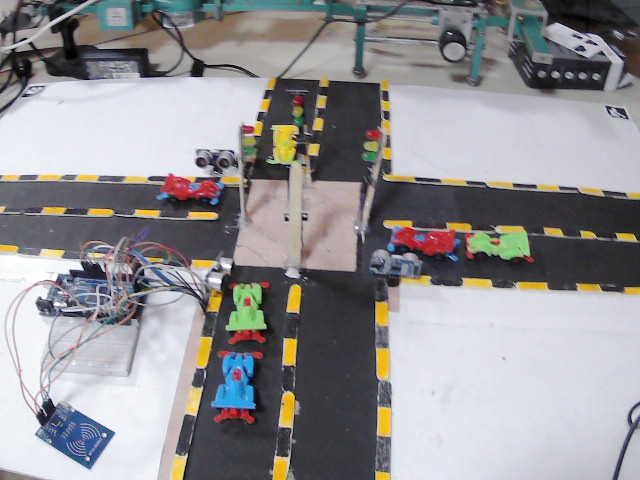aruco_marker: (603, 103, 636, 122), (21, 82, 43, 99)
black_strip: (176, 415, 196, 452), (273, 425, 292, 456), (201, 311, 220, 335), (284, 312, 300, 338), (166, 258, 195, 272), (545, 277, 576, 290), (281, 369, 297, 393), (377, 437, 390, 466), (377, 384, 392, 409), (5, 207, 41, 217), (599, 281, 624, 295), (413, 217, 444, 228), (373, 278, 388, 300), (106, 256, 142, 265), (158, 208, 187, 219), (374, 328, 391, 346), (433, 275, 462, 285), (63, 250, 87, 261), (66, 206, 90, 217), (605, 186, 626, 198), (191, 369, 206, 385), (196, 175, 220, 185), (100, 175, 124, 184), (491, 279, 516, 287), (524, 223, 543, 233), (377, 134, 390, 148), (308, 132, 322, 145), (560, 186, 578, 196), (417, 175, 439, 183), (252, 140, 262, 157), (20, 245, 40, 253), (114, 207, 133, 215), (148, 175, 169, 182), (468, 223, 492, 229), (257, 109, 269, 121), (308, 156, 317, 171), (467, 180, 486, 187), (564, 229, 580, 237), (514, 180, 535, 186), (315, 88, 329, 97), (380, 91, 390, 103), (312, 110, 324, 120), (599, 231, 613, 239), (265, 87, 273, 100), (380, 109, 389, 119), (62, 175, 75, 181), (384, 161, 390, 173), (20, 175, 38, 179), (317, 87, 330, 91), (634, 234, 639, 242)
car: (210, 349, 262, 426), (227, 281, 272, 344), (389, 225, 464, 261), (466, 229, 537, 264), (158, 173, 227, 207), (270, 123, 300, 163)
mixed_lane: (168, 291, 224, 479), (381, 171, 640, 202), (384, 215, 640, 244), (271, 283, 303, 479), (405, 270, 640, 296), (1, 242, 216, 270), (369, 273, 392, 477), (1, 204, 219, 223), (0, 169, 223, 186), (251, 70, 280, 158), (309, 74, 332, 161), (377, 76, 392, 173)
traffic_light: (360, 123, 384, 188), (289, 84, 308, 144), (237, 123, 256, 177)
uno_breadboard: (34, 262, 156, 320), (32, 396, 119, 469), (40, 317, 146, 374), (203, 253, 243, 289), (371, 252, 423, 276), (195, 148, 235, 169)
yellow_strip: (276, 391, 294, 425), (373, 347, 389, 378), (195, 337, 212, 366), (285, 283, 301, 312), (458, 275, 490, 289), (281, 339, 298, 365), (185, 388, 203, 412), (374, 302, 391, 327), (171, 455, 188, 480), (270, 457, 291, 477), (377, 409, 391, 437), (191, 257, 220, 270), (207, 291, 223, 312), (188, 210, 216, 222), (514, 281, 545, 291), (445, 221, 471, 232), (127, 173, 153, 184), (384, 219, 412, 229), (491, 225, 522, 234), (576, 281, 599, 293), (399, 275, 432, 283), (76, 172, 98, 183), (443, 178, 467, 188), (615, 232, 634, 244), (142, 256, 164, 266), (43, 207, 65, 217), (488, 182, 515, 190), (251, 123, 264, 139), (1, 173, 20, 183), (580, 188, 603, 196), (537, 183, 557, 192), (135, 210, 160, 217), (42, 250, 61, 258), (384, 175, 414, 180), (312, 121, 322, 136), (173, 175, 194, 182), (88, 209, 112, 215), (37, 175, 61, 181), (378, 78, 389, 91), (86, 254, 106, 261), (309, 146, 321, 157), (583, 231, 599, 239), (373, 471, 389, 479), (545, 228, 565, 234), (315, 95, 327, 105), (624, 285, 640, 292), (383, 147, 392, 159), (0, 246, 17, 252), (266, 78, 276, 88), (627, 192, 640, 199), (382, 120, 389, 132), (260, 102, 272, 109), (321, 78, 330, 86), (381, 103, 389, 111), (0, 206, 5, 213)
